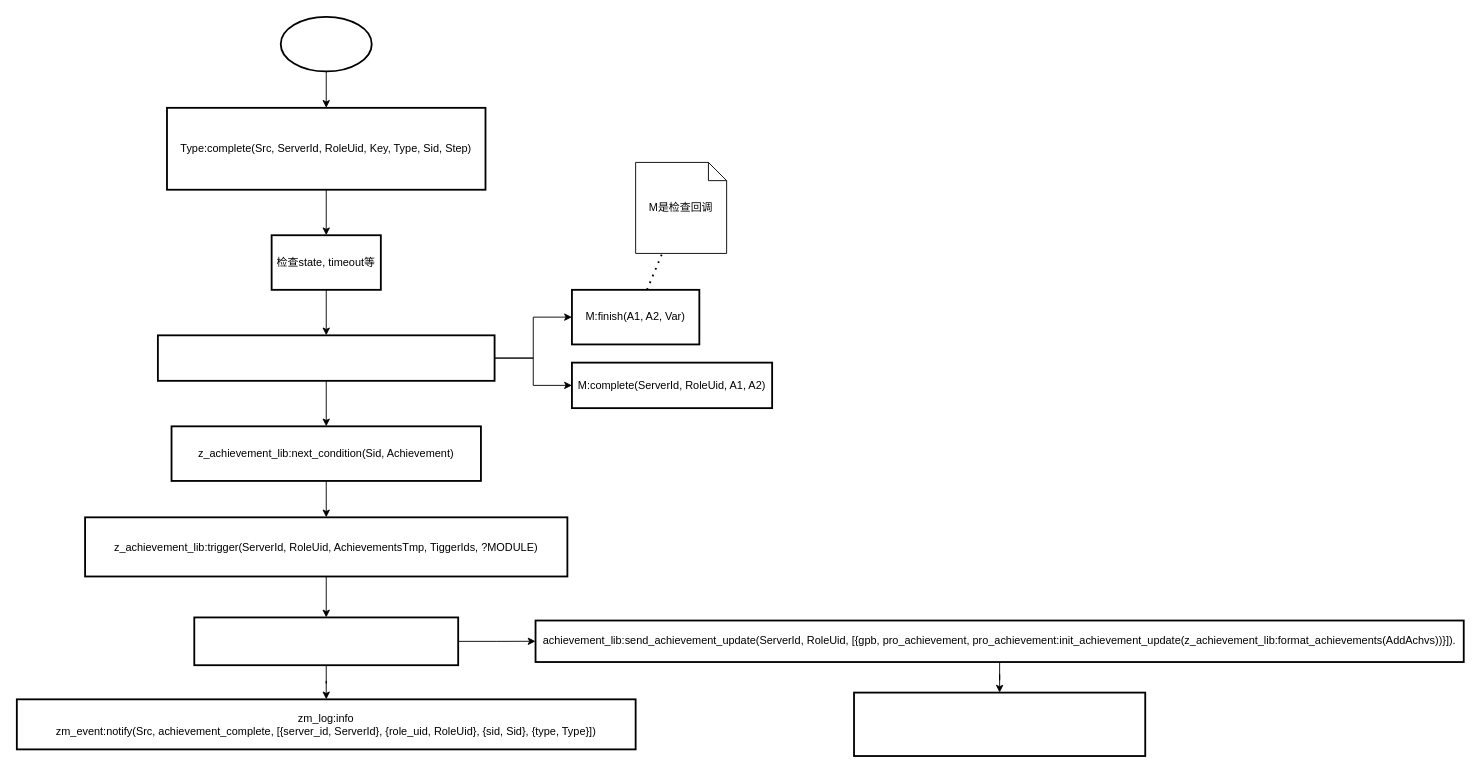
This 1480x773 diagram has some shape labels left out. Here are the shapes that lost their labels. From the top down, the centre of each, then its label:
At pixel 325 43: "complete".
At pixel 326 357: "z_achievement_lib:complete(ServerId, RoleUid, Achievement)".
At pixel 326 641: "send_update(Src, ServerId, RoleUid, AddAchvs)".
At pixel 999 723: "send_achievement_update(ServerId, RoleUid, Msg)".
